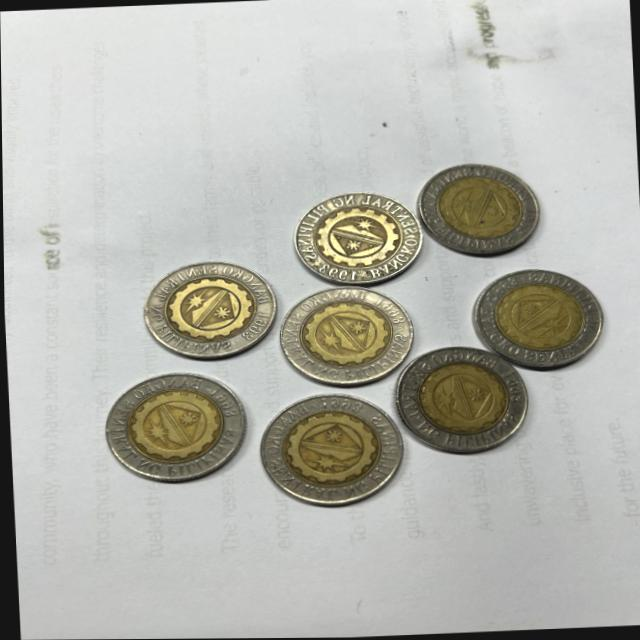10_Old_Back: (95, 372, 238, 483), (257, 398, 393, 509), (276, 290, 412, 382), (408, 350, 521, 454), (148, 265, 274, 358), (477, 274, 599, 365), (423, 163, 536, 258), (297, 195, 417, 282)
